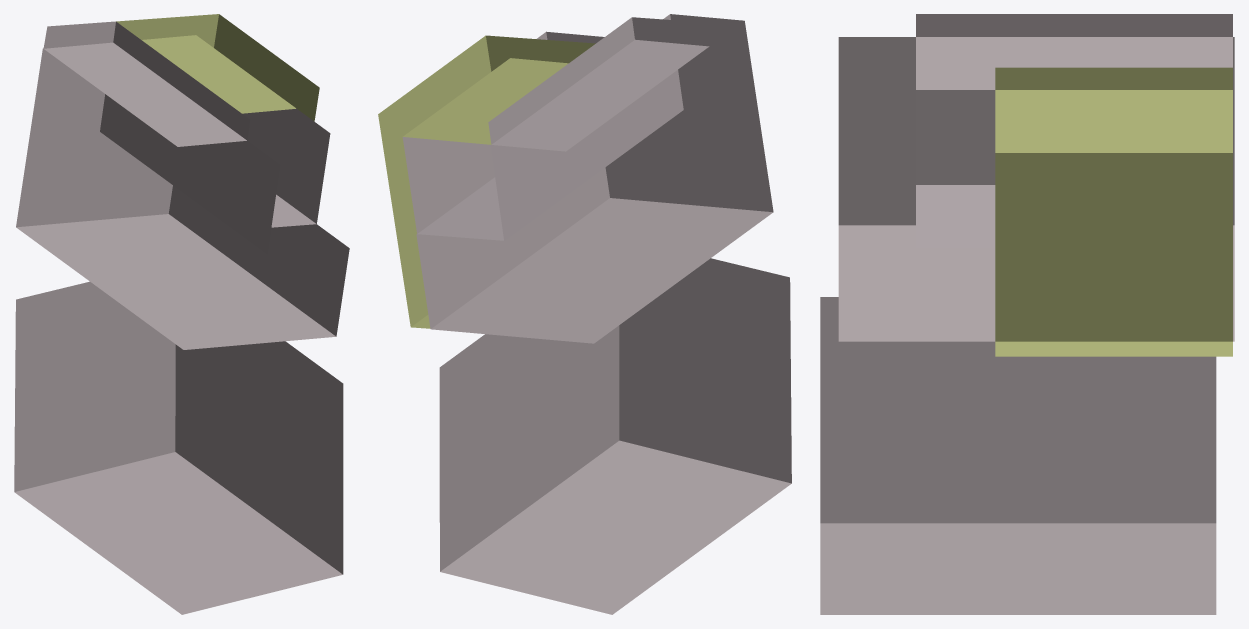
3 renders of one model, left to right at view 1: azimuth 30°, elevation 25°; view 2: azimuth 150°, elevation 25°; view 3: azimuth 270°, elevation 25°, orthographic. The views are drawn at different scales.
Parts seen in each view (by area): view 1: 0_2_1_0_0_0_0_0_0_2; view 2: 0_2_1_0_0_0_0_0_0_2; view 3: 0_2_1_0_0_0_0_0_0_2.
Part boxes in pixels (x1=…): 0_2_1_0_0_0_0_0_0_2: x1=14, y1=14, x2=349, y2=614; 0_2_1_0_0_0_0_0_0_2: x1=378, y1=14, x2=791, y2=614; 0_2_1_0_0_0_0_0_0_2: x1=820, y1=14, x2=1234, y2=614.
Bounding box in the file's own units: 10.94 × 22.24 × 15.69.
